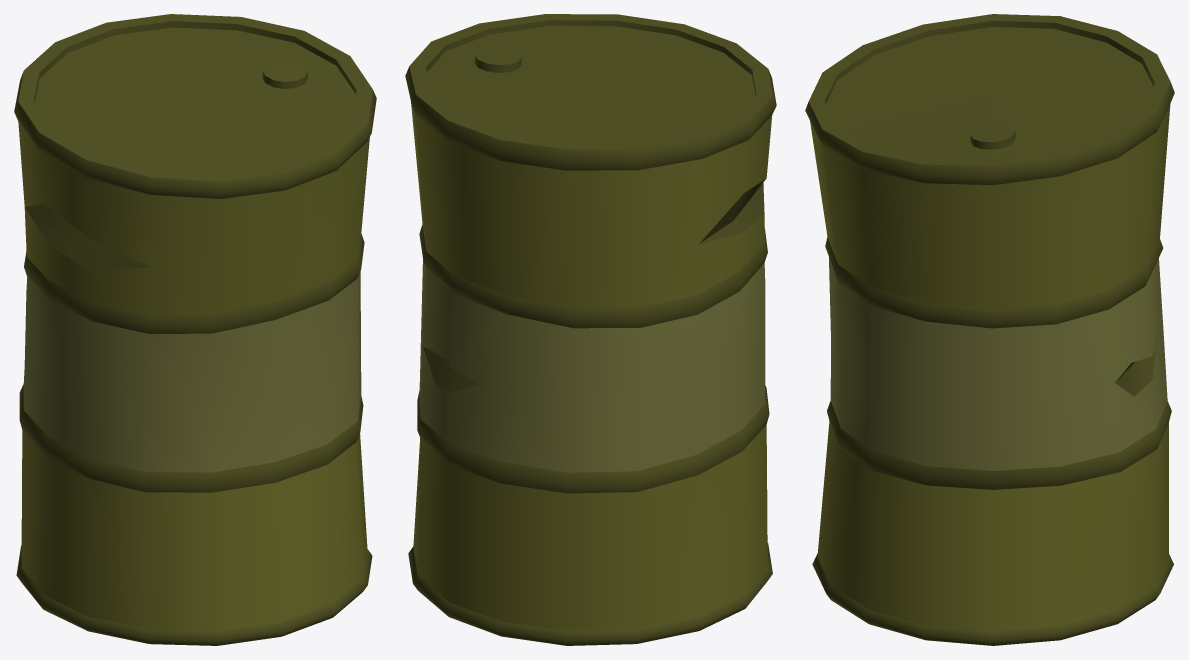
File: 20C_Barrel_01.fbx
3 views of the same model, side by side, from view 1: azimuth 30°, elevation 25°; view 2: azimuth 150°, elevation 25°; view 3: azimuth 270°, elevation 25° (orthographic). The views are drawn at different scales.
Visible parts, largest first — view 1: 20C_Barrel_01; view 2: 20C_Barrel_01; view 3: 20C_Barrel_01.
Boxes of the visible parts, x1=… form: 20C_Barrel_01: x1=14, y1=14, x2=376, y2=645; 20C_Barrel_01: x1=405, y1=14, x2=776, y2=645; 20C_Barrel_01: x1=805, y1=14, x2=1174, y2=645.
Size of the model in its own units: 9.46 by 13.82 by 9.46.
